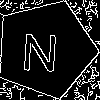N: (20, 24, 60, 72)
